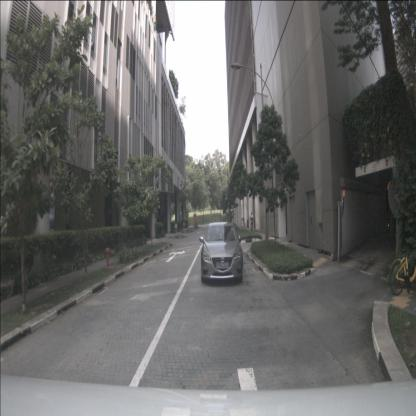human-pedestrian-adult: (249, 212, 254, 232)
vehicle-bicycle: (389, 234, 416, 296)
vehicle-car: (201, 221, 243, 283)
